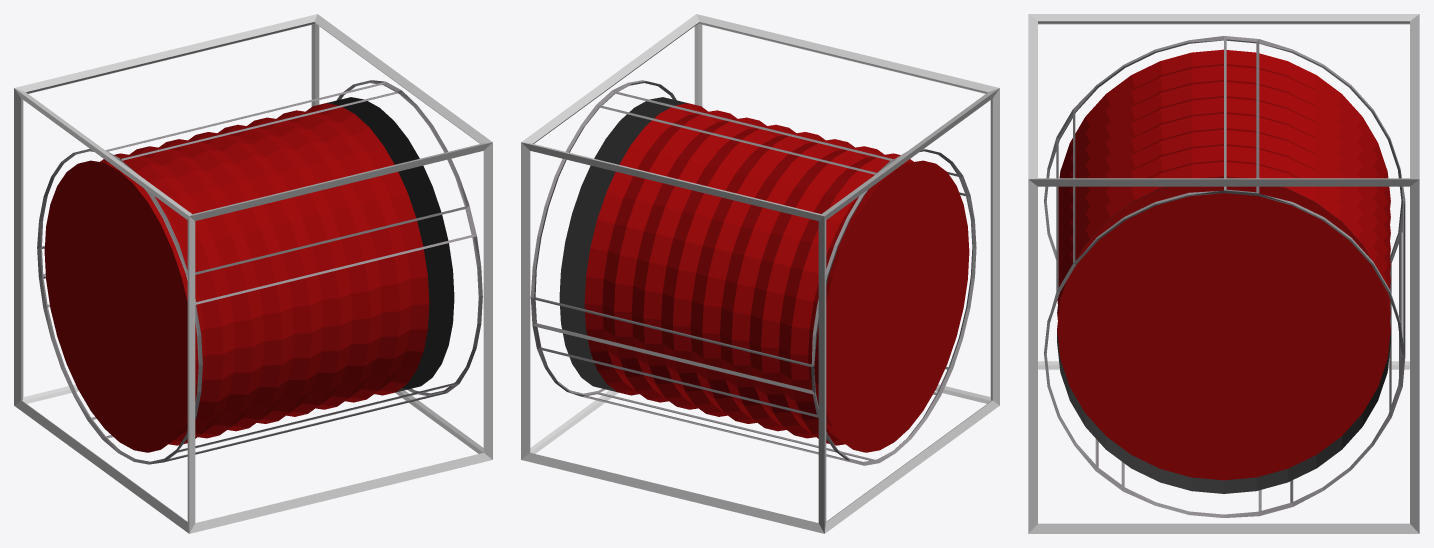
File: assembly_pump_part_red.dae
The picture shows the model from 3 angles, left to right: view 1: azimuth 30°, elevation 25°; view 2: azimuth 150°, elevation 25°; view 3: azimuth 270°, elevation 25°; orthographic projection. The views are drawn at different scales.
Parts seen in each view (by area): view 1: cylinderHead.001; view 2: cylinderHead.001; view 3: cylinderHead.001.
Boxes of the visible parts, x1,y1,x2,y2 form: cylinderHead.001: (14,14,492,533); cylinderHead.001: (521,14,999,533); cylinderHead.001: (1028,14,1419,533).
Bounding box in the file's own units: 0.1262 × 0.1262 × 0.1262.
